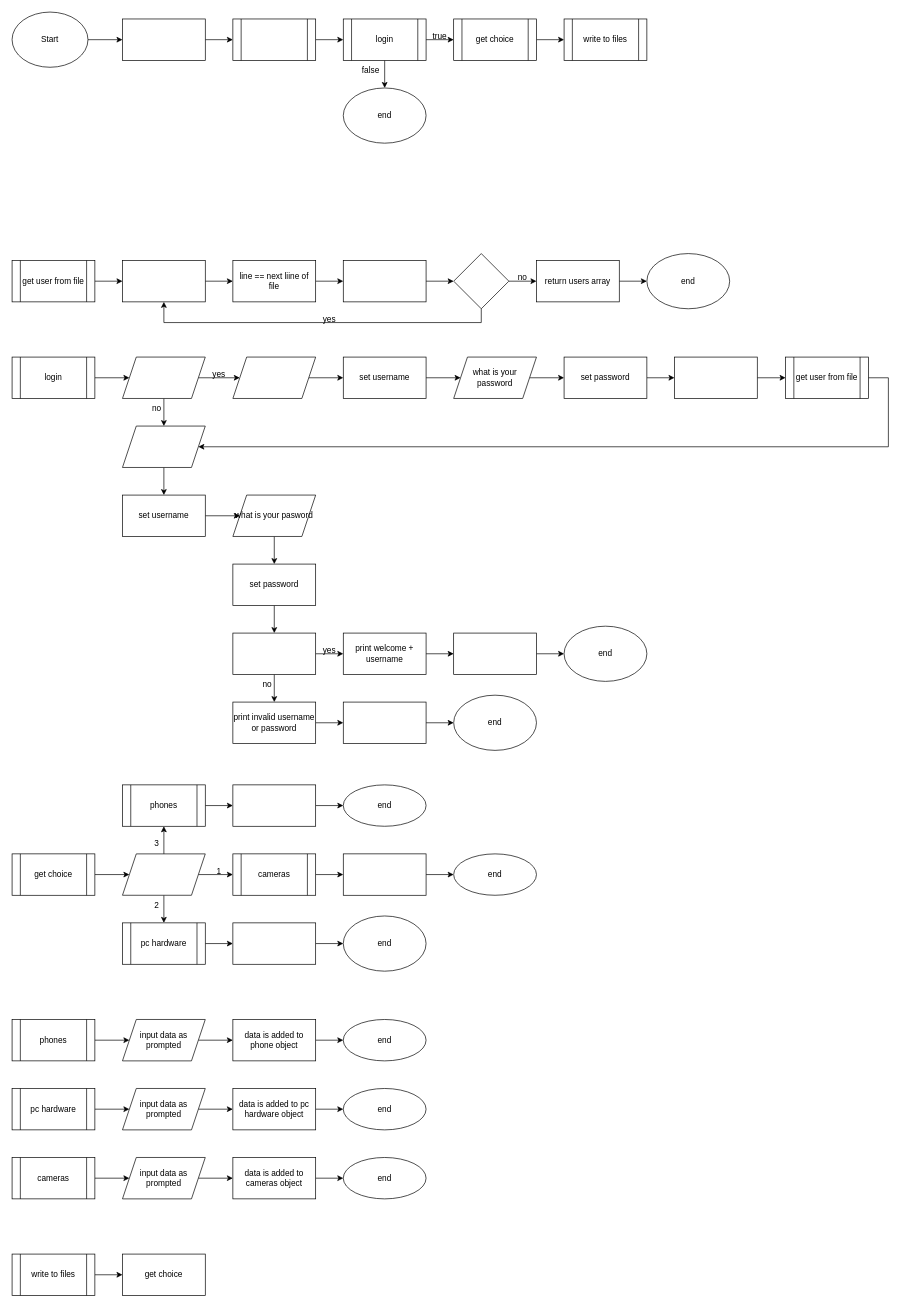
Some shapes in this 906 by 1308 pixel diagram are drawn without their labels. Here are the shapes that lost their labels. From the top down, the centre of each, then its label:
At [163,39]: "create or read file for each category".
At [274,39]: "get users from file".
At [163,281]: "read file".
At [384,281]: "add line to users array".
At [481,281]: "is there another line in the file?".
At [163,377]: "do you need to create an account".
At [274,377]: "what is your username?".
At [715,377]: "write to users file, username and password".
At [163,446]: "what is your username".
At [274,653]: "does users file contain username + password?".
At [494,653]: "return true".
At [384,722]: "return false".
At [274,805]: "return 3".
At [163,874]: "what category of product do you want to manage".
At [384,874]: "return 1".
At [274,943]: "return 2".
